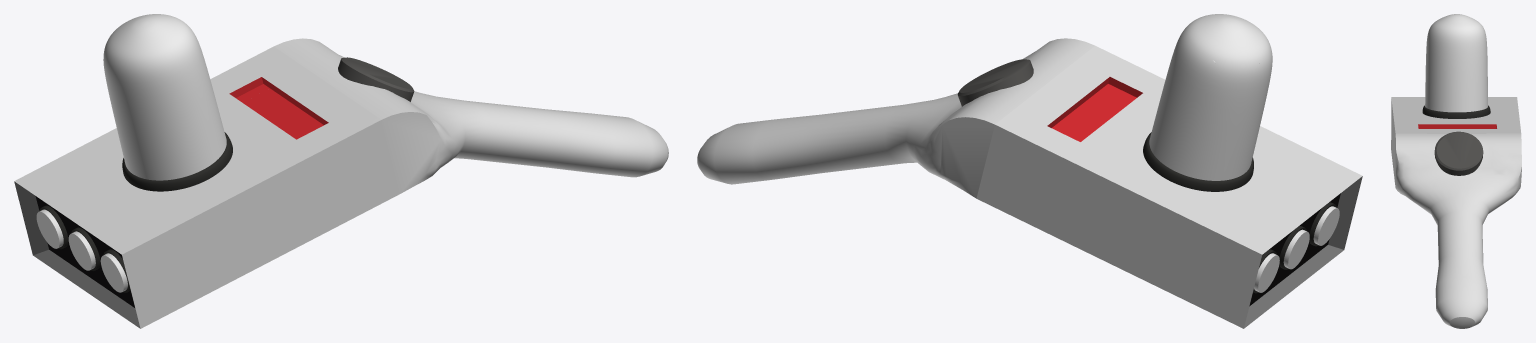
Rendered from PortalGun.fbx.
The picture shows the model from 3 angles, left to right: view 1: azimuth 30°, elevation 25°; view 2: azimuth 150°, elevation 25°; view 3: azimuth 270°, elevation 25°; orthographic projection. The views are drawn at different scales.
Parts seen in each view (by area): view 1: Portal gun; view 2: Portal gun; view 3: Portal gun.
Part boxes in pixels (x1,y1,x2,y2): Portal gun: (14, 14, 668, 328); Portal gun: (697, 14, 1362, 328); Portal gun: (1391, 14, 1521, 328).
Size of the model in its own units: 74.67 by 32.43 by 23.23.
